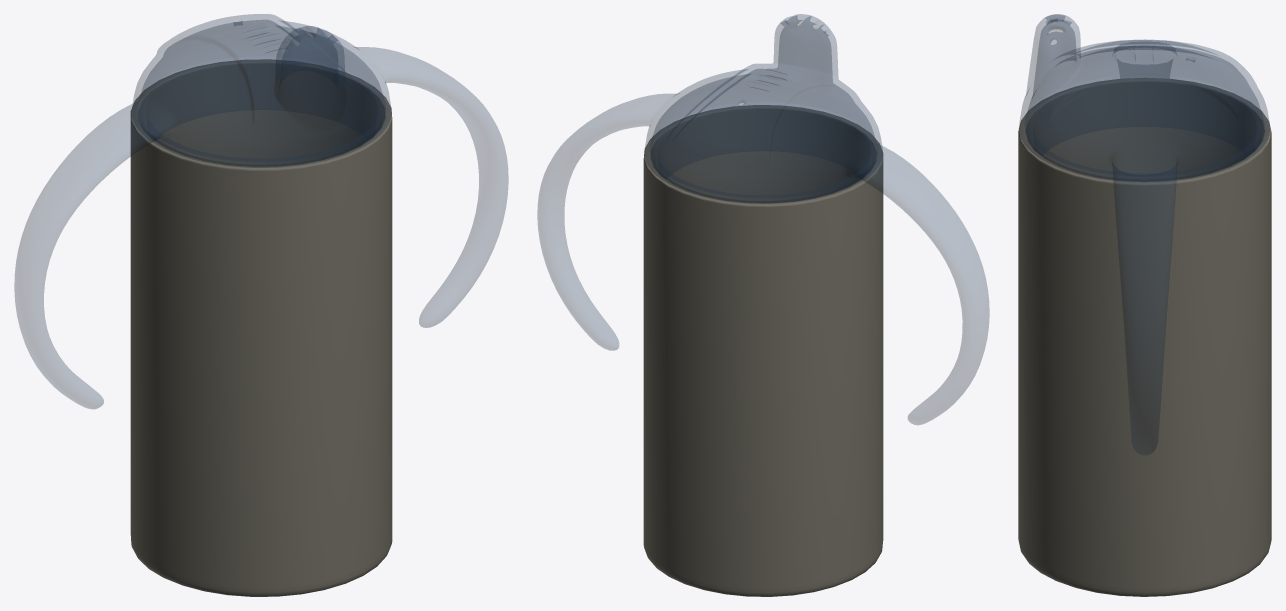
The model's file is Sippy.glb.
3 renders of one model, left to right at view 1: azimuth 30°, elevation 25°; view 2: azimuth 150°, elevation 25°; view 3: azimuth 270°, elevation 25°, orthographic. The views are drawn at different scales.
Parts seen in each view (by area): view 1: Object002, SpherePlus001, Cylinder001; view 2: Object002, SpherePlus001, Cylinder001; view 3: Object002, SpherePlus001, Cylinder001.
Part boxes in pixels (x1=…): Object002: x1=130, y1=97, x2=392, y2=596; SpherePlus001: x1=14, y1=14, x2=508, y2=408; Cylinder001: x1=131, y1=59, x2=391, y2=596; Object002: x1=643, y1=142, x2=883, y2=596; SpherePlus001: x1=537, y1=14, x2=989, y2=424; Cylinder001: x1=644, y1=105, x2=882, y2=596; Object002: x1=1018, y1=111, x2=1271, y2=596; SpherePlus001: x1=1019, y1=14, x2=1269, y2=454; Cylinder001: x1=1019, y1=77, x2=1270, y2=596.
Bounding box in the file's own units: 0.1495 × 0.1612 × 0.07.
